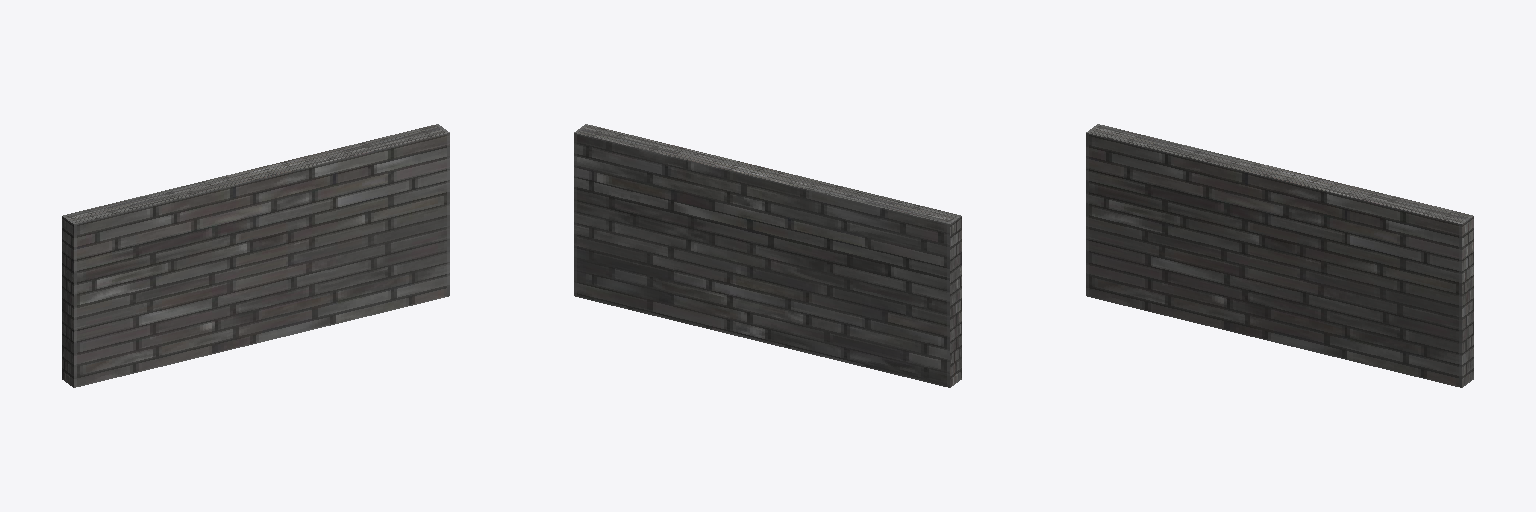
3 renders of one model, left to right at view 1: azimuth 30°, elevation 25°; view 2: azimuth 150°, elevation 25°; view 3: azimuth 330°, elevation 25°, orthographic.
Parts seen in each view (by area): view 1: pCube1; view 2: pCube1; view 3: pCube1.
Part boxes in pixels (left/top/right/bottom): pCube1: left=62, top=124, right=449, bottom=387; pCube1: left=574, top=124, right=961, bottom=387; pCube1: left=1086, top=124, right=1473, bottom=387.
Size of the model in its own units: 14.73 by 6.12 by 0.818.
1 materials, 1 textured.